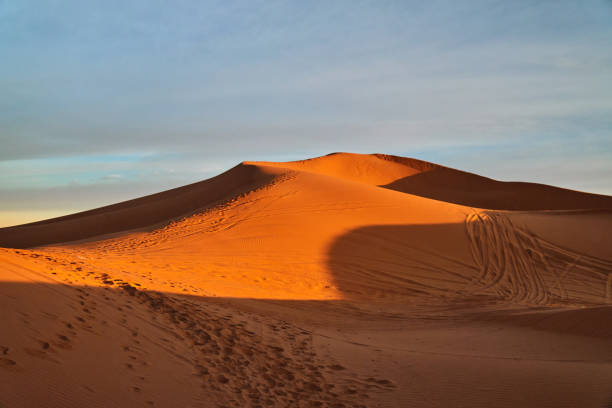animal_footprint: (113, 281, 368, 406), (88, 168, 276, 262), (78, 286, 98, 326), (23, 340, 59, 362), (0, 345, 16, 368), (0, 357, 16, 368)
